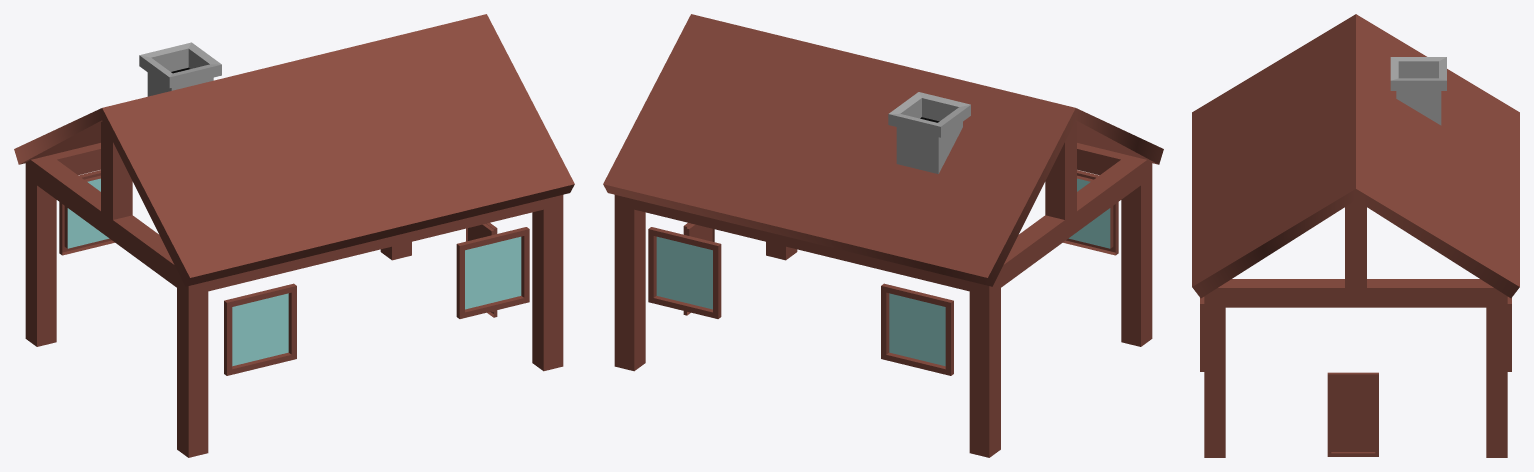
The model's file is House_Old.fbx.
The picture shows the model from 3 angles, left to right: view 1: azimuth 30°, elevation 25°; view 2: azimuth 150°, elevation 25°; view 3: azimuth 270°, elevation 25°; orthographic projection. The views are drawn at different scales.
Parts seen in each view (by area): view 1: Wohnhaus5.002, Cube.001, Plane.002, Cube.002; view 2: Wohnhaus5.002, Cube.001, Plane.002, Cube.002; view 3: Wohnhaus5.002, Cube.001, Plane.002, Cube.002.
Part boxes in pixels (x1,y1,x2,y2): Wohnhaus5.002: (14,14,574,286); Cube.001: (25,121,563,457); Plane.002: (59,170,529,375); Cube.002: (139,42,221,96); Wohnhaus5.002: (603,14,1163,286); Cube.001: (614,121,1152,457); Plane.002: (648,170,1118,375); Cube.002: (888,92,970,173); Wohnhaus5.002: (1192,14,1519,298); Cube.001: (1204,200,1507,457); Plane.002: (1200,297,1511,456); Cube.002: (1390,57,1446,125).
Bounding box in the file's own units: 8.38 × 6.07 × 6.64.
